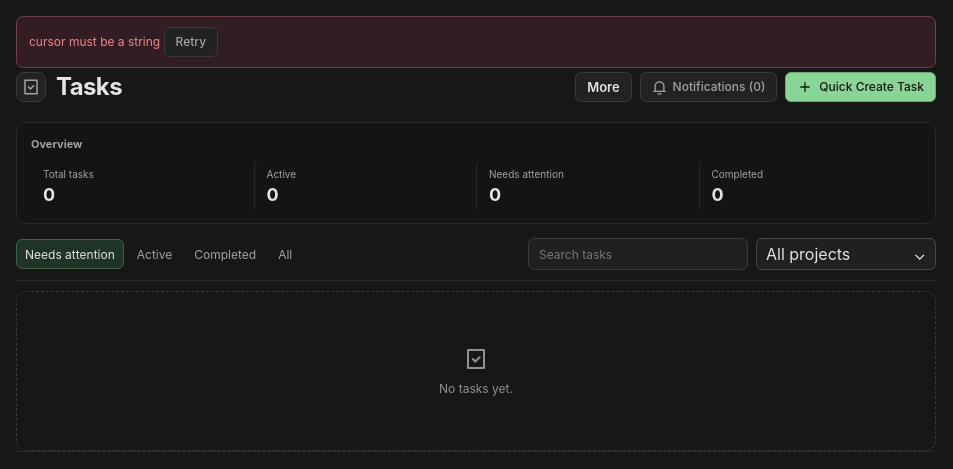
Scenario: shows serialized notification errors and recovers through retry
Expected: the message shows "cursor must be a string", [29,34,160,49]
Click the button "Retry".
click(191, 42)  # box [164,27,218,57]
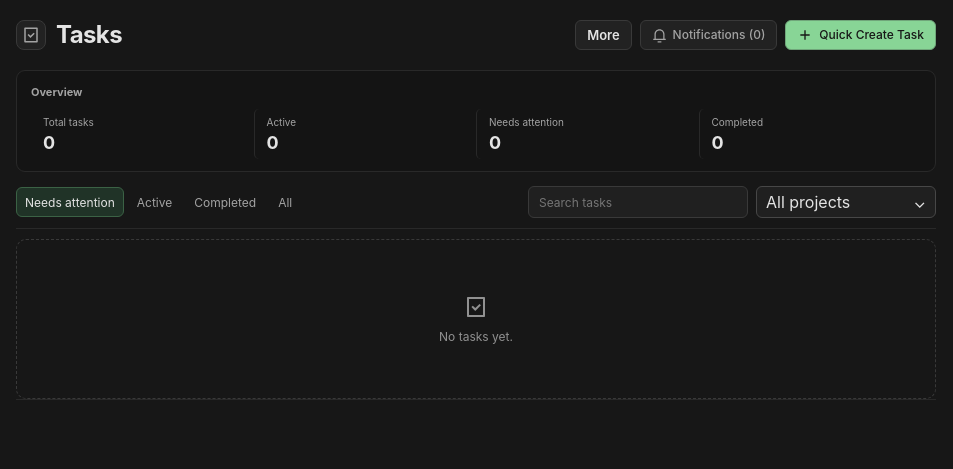
Now the message "cursor must be a string Retry" is gone
